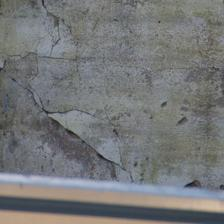Crack: (42, 0, 129, 74), (3, 12, 65, 69), (35, 33, 72, 95)
